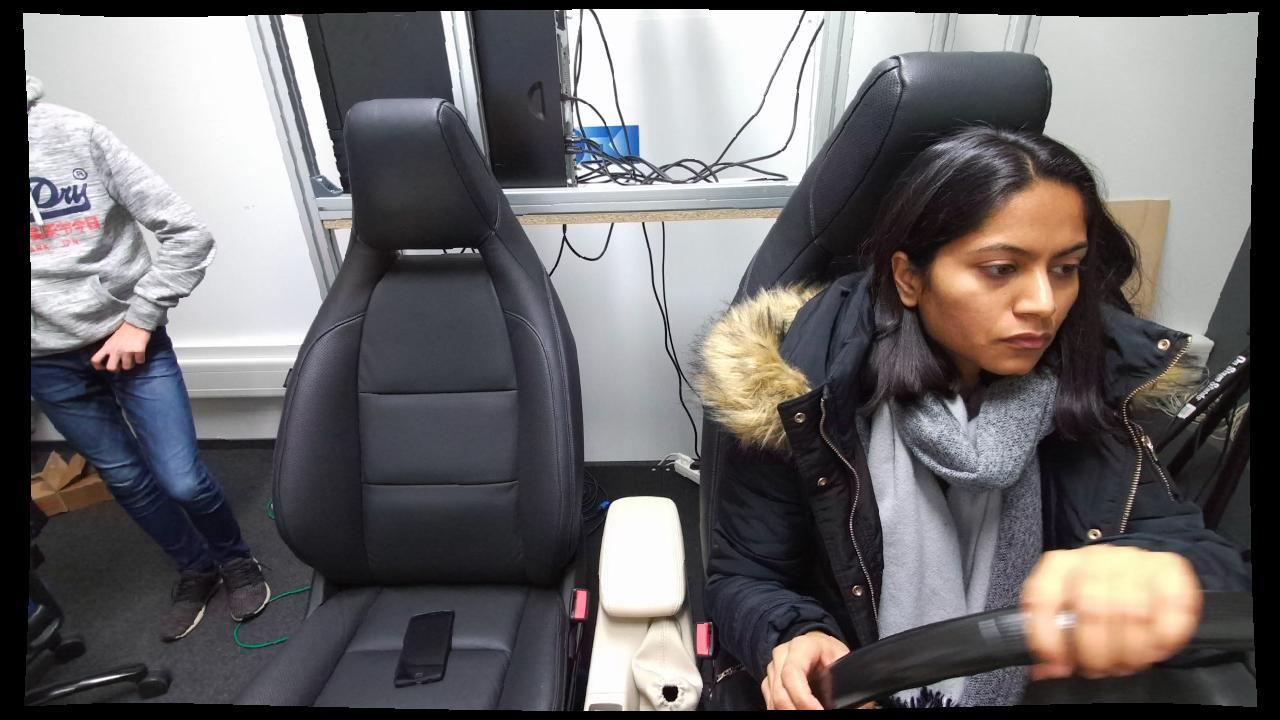SafeDriving: (704, 118, 1178, 705)
